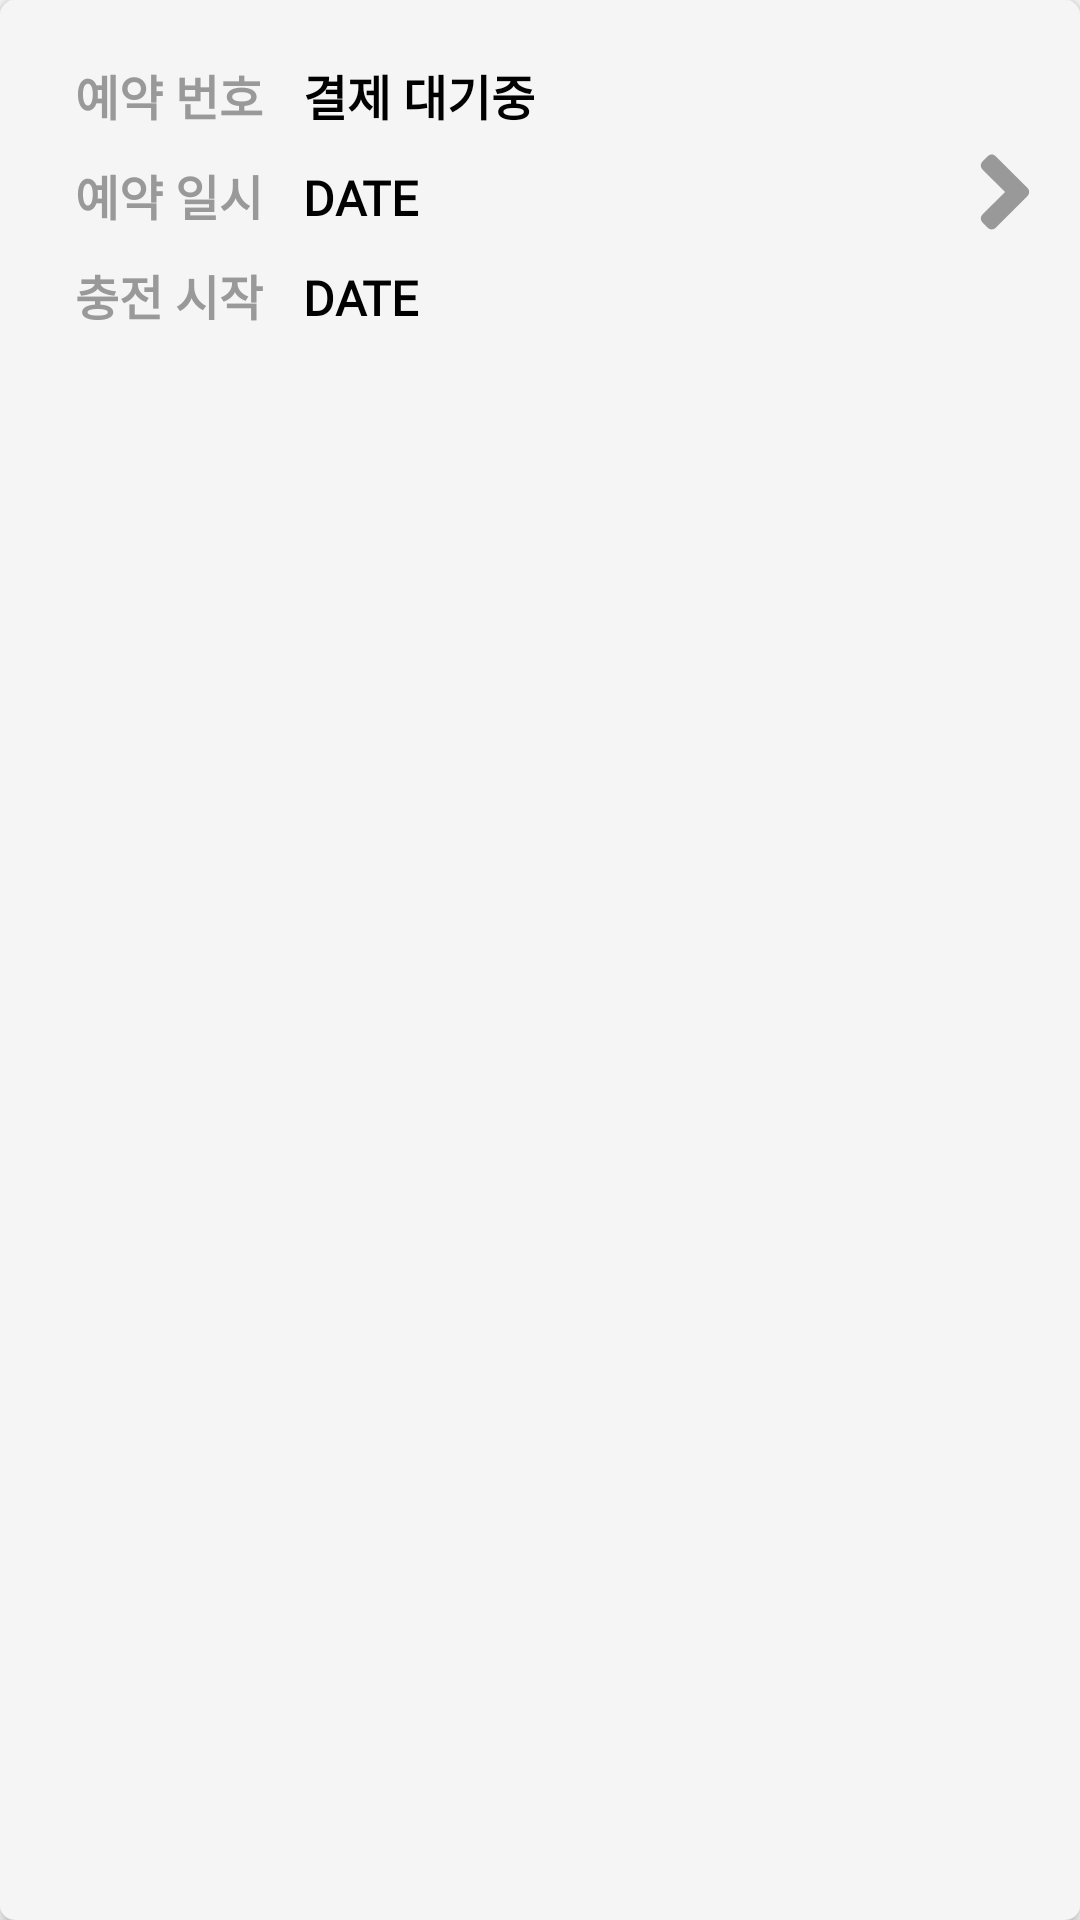

Named icons in this screenshot (1080 x 1920) and their bounding boxes, BBox(x1, y1, x2, y2):
angle right: BBox(981, 154, 1029, 230)
